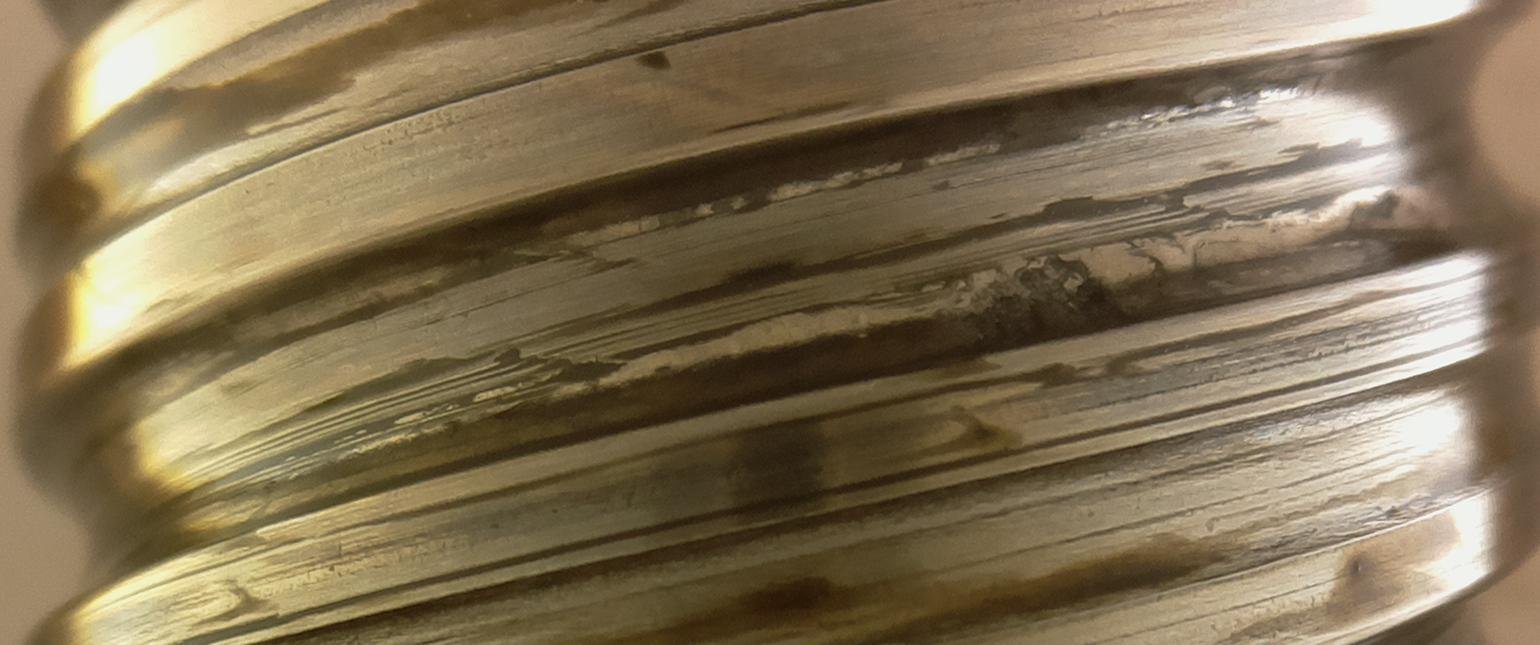pitting: (962, 253, 1136, 353)
